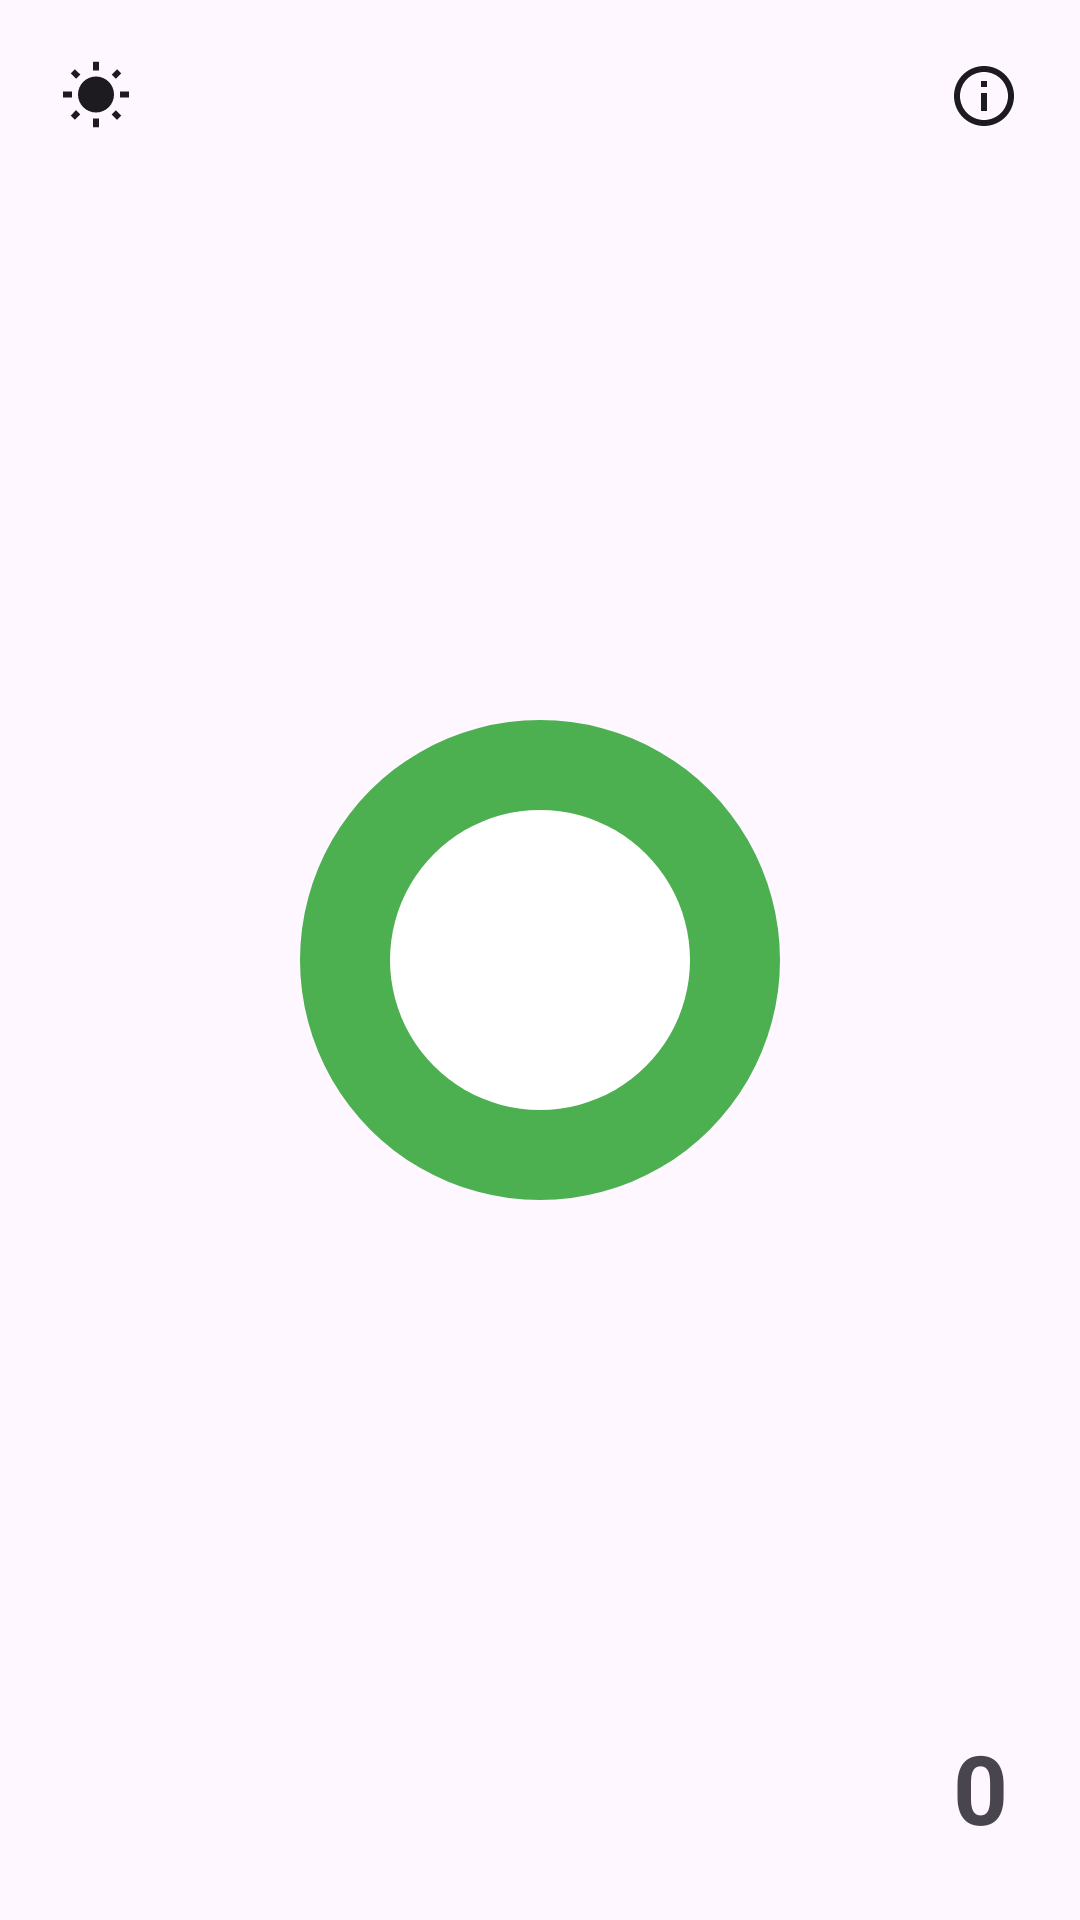

Locate icon controls on the screen. Image size 1080*1920, boxes as (x1, y1, x2, y2).
关于: (954, 66, 1014, 126)
切换主题: (63, 61, 129, 128)
